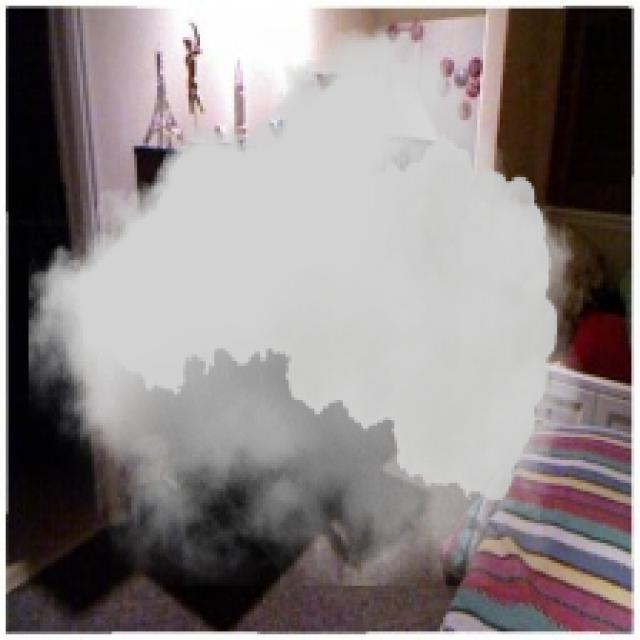smoke: (28, 28, 583, 586)
